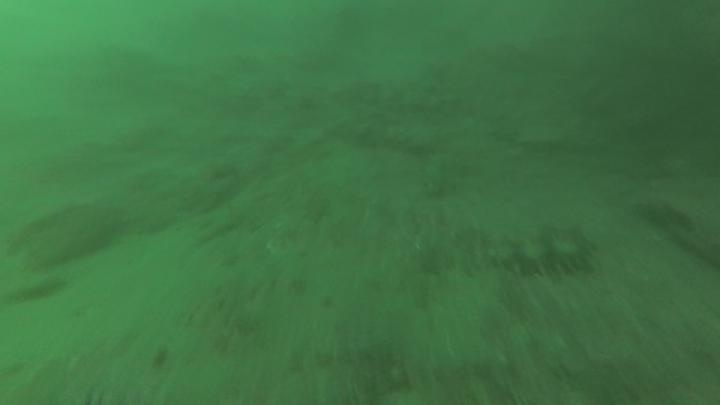holothurian: (486, 230, 599, 281)
